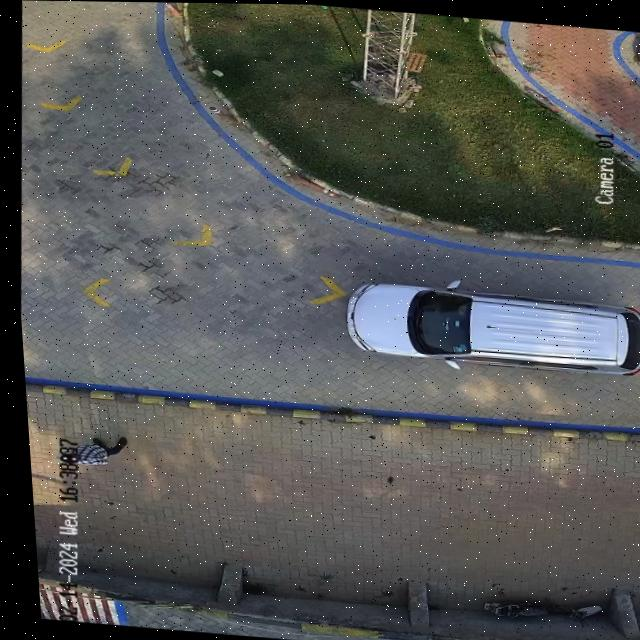car: (341, 281, 639, 372)
